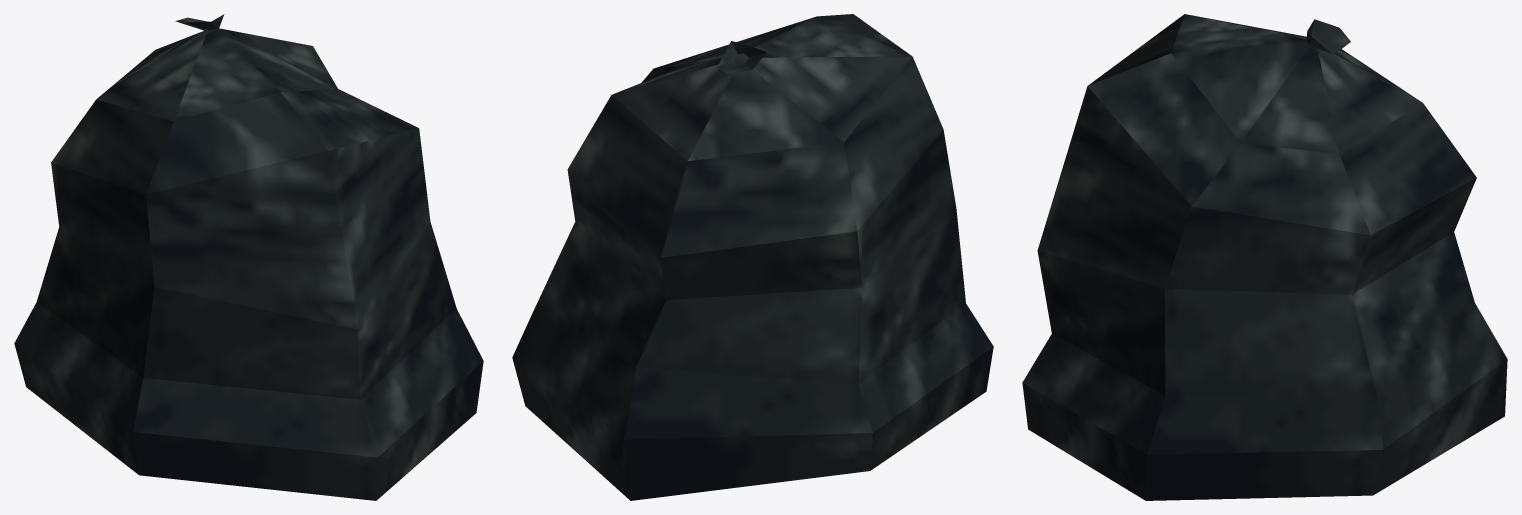
Rendered from Urban_Trashbag1_Model.fbx.
3 views of the same model, side by side, from view 1: azimuth 30°, elevation 25°; view 2: azimuth 150°, elevation 25°; view 3: azimuth 270°, elevation 25° (orthographic). The views are drawn at different scales.
Visible parts, largest first — view 1: Urban_Trashbag1_Mesh; view 2: Urban_Trashbag1_Mesh; view 3: Urban_Trashbag1_Mesh.
Part boxes in pixels (bbox=[...]): Urban_Trashbag1_Mesh: bbox=[14, 14, 483, 500]; Urban_Trashbag1_Mesh: bbox=[512, 14, 993, 500]; Urban_Trashbag1_Mesh: bbox=[1022, 14, 1507, 500].
Bounding box in the file's own units: 0.7709 × 0.8094 × 0.9171.
